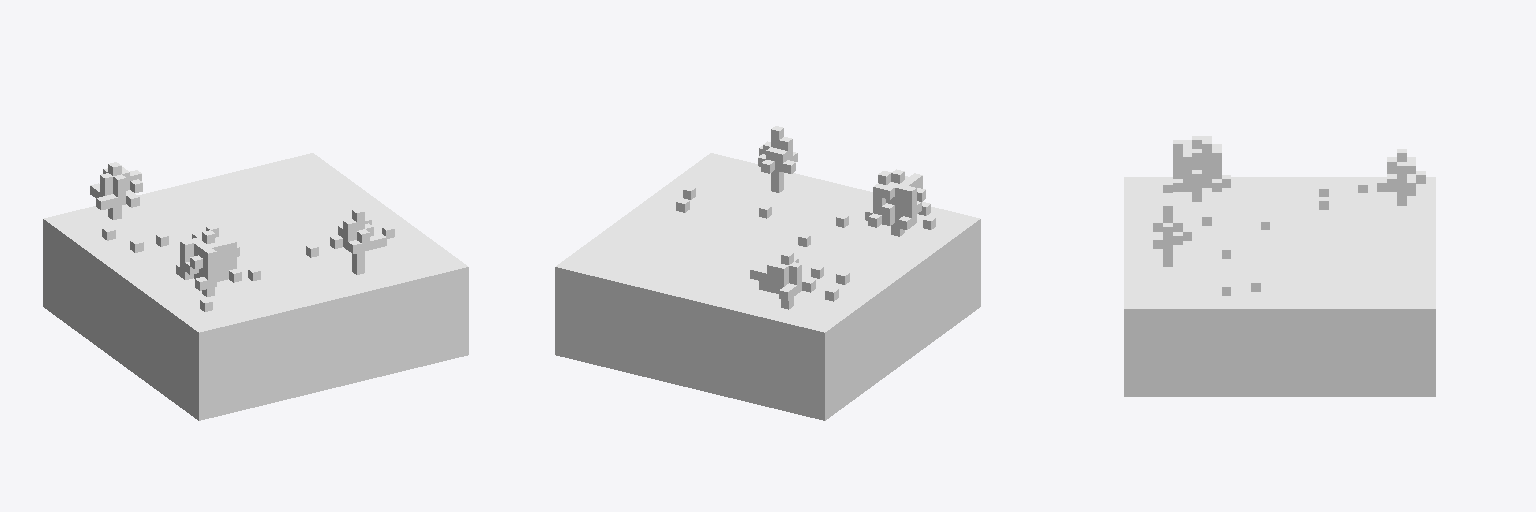
The model's file is Overworld_Beach_03.obj.
3 renders of one model, left to right at view 1: azimuth 30°, elevation 25°; view 2: azimuth 150°, elevation 25°; view 3: azimuth 270°, elevation 25°, orthographic.
Parts seen in each view (by area): view 1: object 1; view 2: object 1; view 3: object 1.
Part boxes in pixels (left/top/right/bottom): object 1: left=43, top=153, right=468, bottom=420; object 1: left=555, top=126, right=980, bottom=420; object 1: left=1124, top=136, right=1435, bottom=396.
Size of the model in its own units: 3.2 by 1.7 by 3.2.